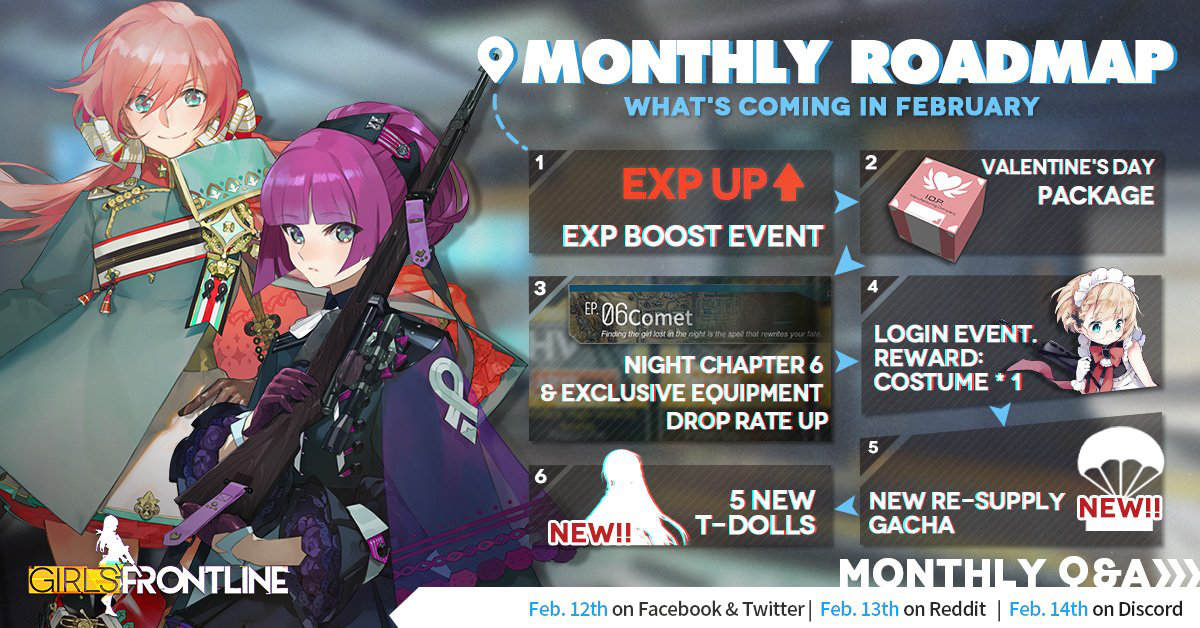latin: (517, 35, 1183, 90), (619, 93, 1042, 120), (832, 555, 1153, 587), (866, 489, 1064, 536), (556, 219, 830, 252), (690, 486, 822, 536), (619, 161, 769, 204), (523, 598, 807, 619), (537, 382, 826, 402), (621, 353, 826, 375), (870, 322, 1042, 347), (980, 156, 1159, 178), (664, 409, 830, 432), (1008, 597, 1186, 617), (817, 599, 991, 618), (871, 371, 1028, 392), (1034, 184, 1158, 208), (870, 347, 986, 367)
